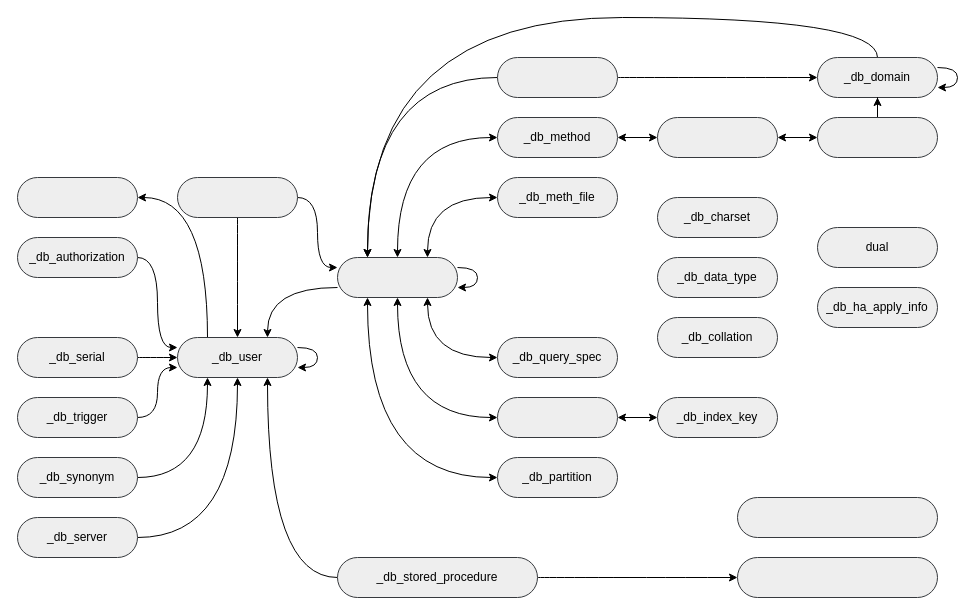
Some shapes in this 975 by 615 pixel diagram are drawn without their labels. The shapes that lost their labels are listed below. From the top down, each one's centre as x and y in pixels, then its label:
At pixel 557 77: "_db_attribute".
At pixel 717 137: "_db_meth_sig".
At pixel 877 137: "_db_meth_arg".
At pixel 77 197: "_db_password".
At pixel 237 197: "_db_auth".
At pixel 397 277: "_db_class".
At pixel 557 417: "_db_index".
At pixel 837 517: "_db_stored_procedure_code".
At pixel 837 577: "_db_stored_procedure_args".
